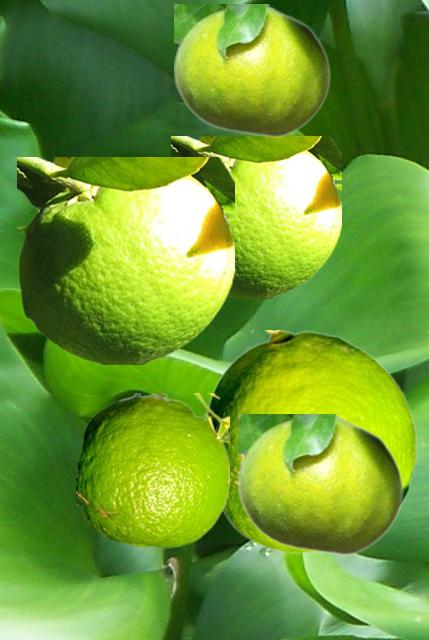dalandan: (203, 330, 416, 553), (17, 157, 233, 363), (171, 136, 340, 297), (76, 393, 228, 547), (238, 414, 403, 555), (174, 4, 330, 137)
